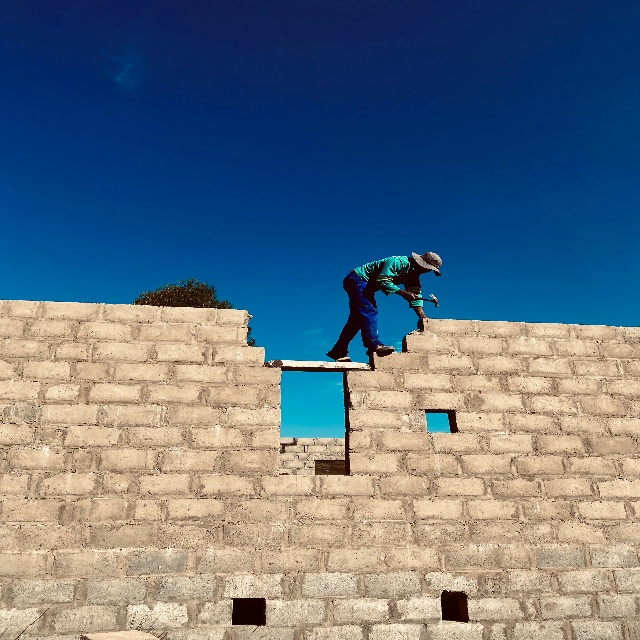Sin_guantes: (402, 290, 417, 302)
